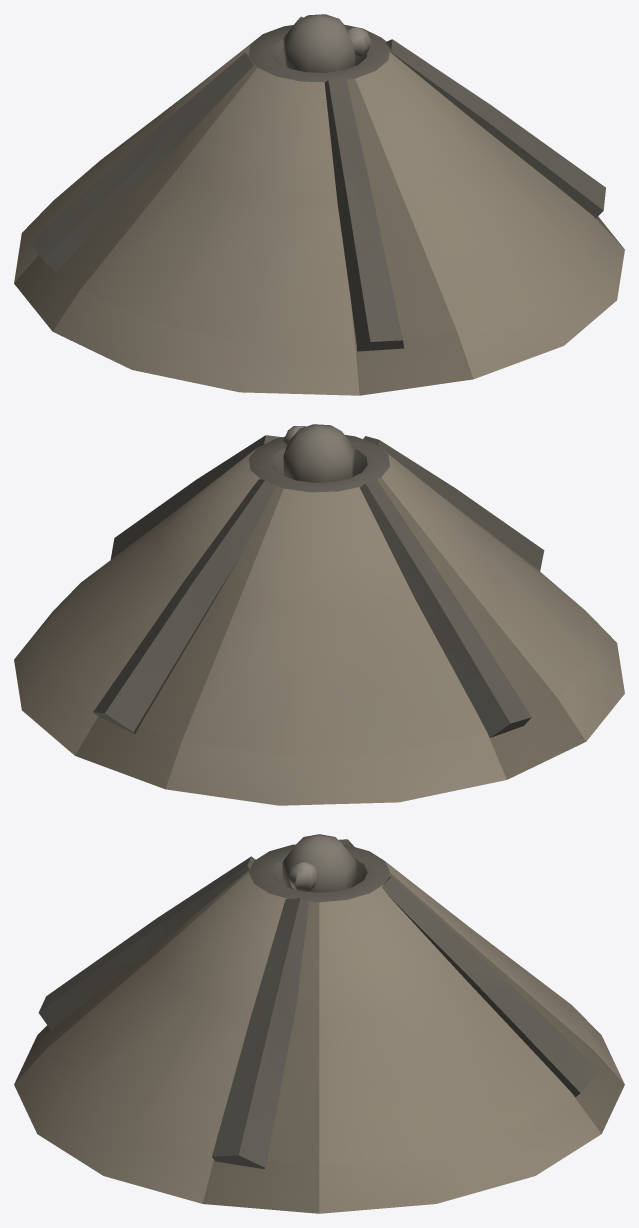
The model's file is prop_mud_volcano.glb.
3 views of the same model, one above another, from view 1: azimuth 30°, elevation 25°; view 2: azimuth 150°, elevation 25°; view 3: azimuth 270°, elevation 25° (orthographic).
Visible parts, largest first — view 1: prop_mud_volcano; view 2: prop_mud_volcano; view 3: prop_mud_volcano.
Boxes of the visible parts, bbox=[...] form: prop_mud_volcano: bbox=[14, 14, 624, 395]; prop_mud_volcano: bbox=[14, 424, 624, 805]; prop_mud_volcano: bbox=[14, 834, 624, 1213].
Bounding box in the file's own units: 1.9 × 0.85 × 1.9.
1 material, 1 textured.
